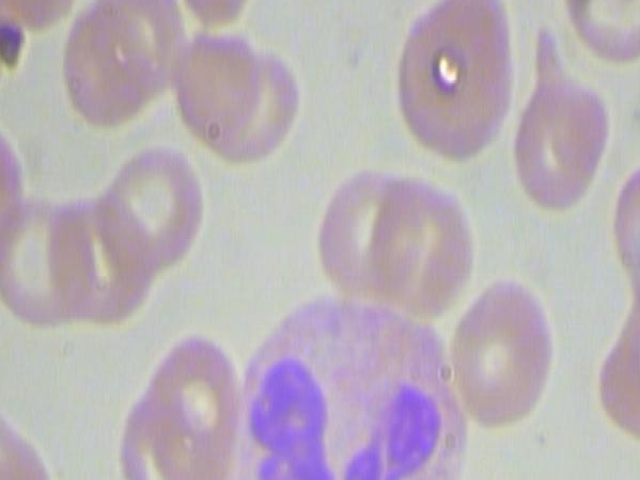RBC: (387, 0, 525, 171), (440, 279, 574, 434), (506, 23, 614, 212), (91, 137, 217, 286), (303, 167, 418, 307), (84, 0, 195, 114), (561, 0, 640, 66), (175, 0, 272, 30)
WBC: (213, 279, 483, 480)
